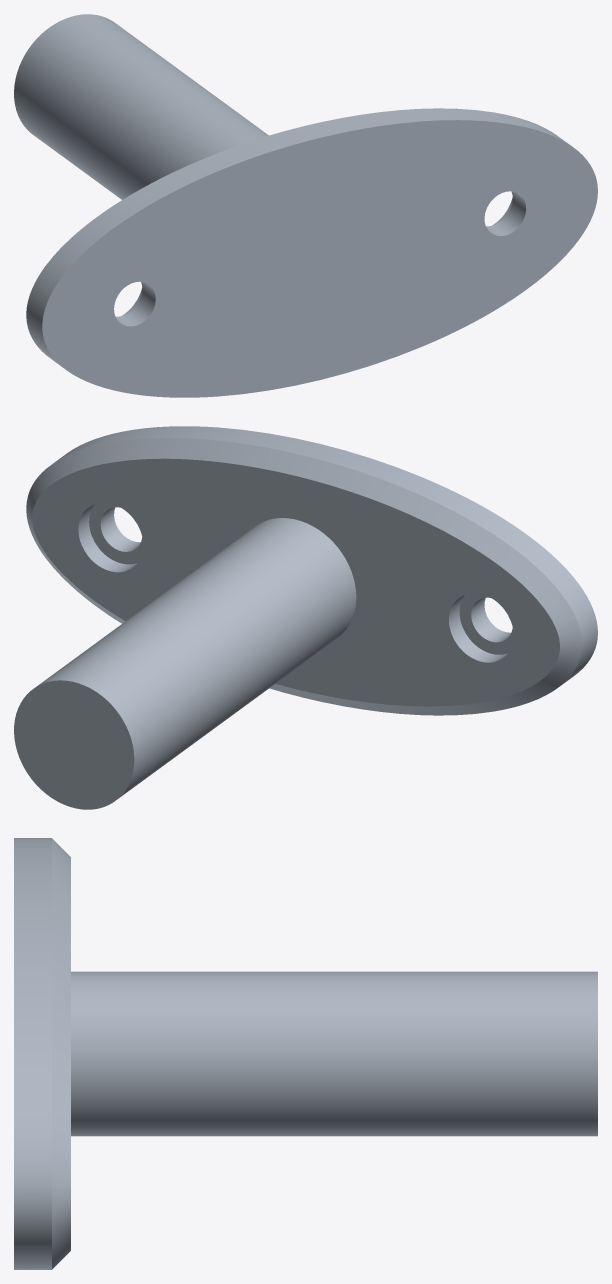
The model's file is washer-b-13.glb.
The picture shows the model from 3 angles, top to bottom: view 1: azimuth 30°, elevation 25°; view 2: azimuth 150°, elevation 25°; view 3: azimuth 270°, elevation 25°; orthographic projection. The views are drawn at different scales.
Visible parts, largest first — view 1: Bracket; view 2: Bracket; view 3: Bracket.
Part boxes in pixels (left/top/right/bottom): Bracket: left=14, top=14, right=597, bottom=397; Bracket: left=14, top=426, right=597, bottom=809; Bracket: left=14, top=838, right=597, bottom=1269.
Size of the model in its own units: 0.06 by 0.025 by 0.046.
